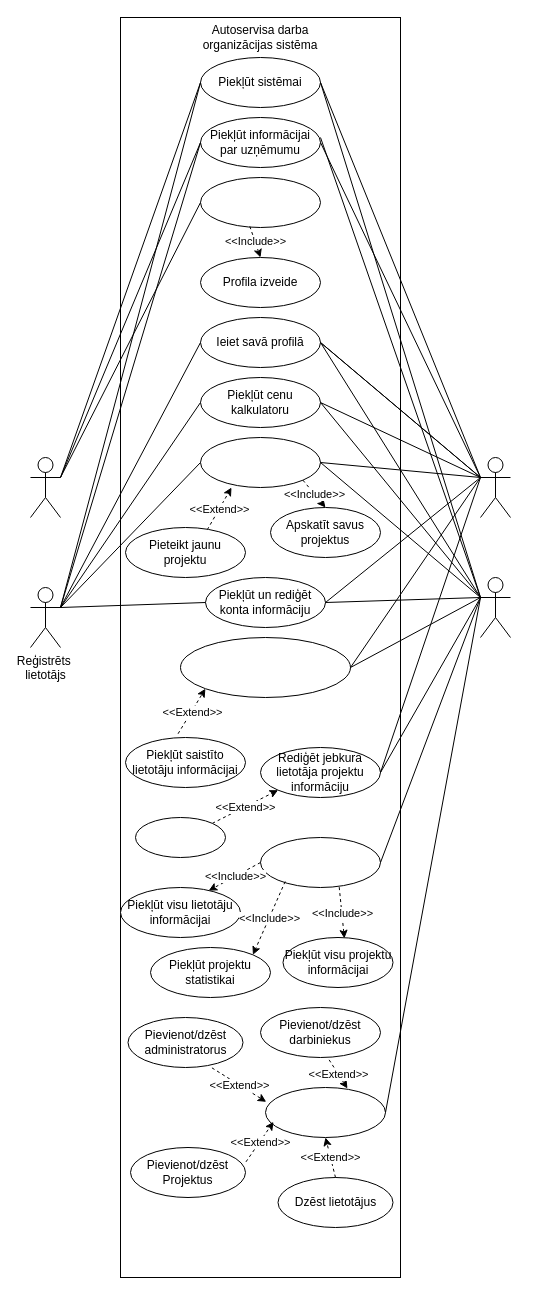
Some shapes in this 551 by 1295 pixel diagram are drawn without their labels. The shapes that lost their labels are listed below. From the top down, each one's box as (x1, y1, x2, y2) in pixels, then its label:
(200, 176, 320, 228): Reģistrēties sistēmā
(200, 436, 320, 488): Piekļūt projektu kalendāram
(30, 456, 60, 518): Viesis
(480, 456, 510, 518): Darbinieks
(480, 576, 510, 638): Administrators
(180, 636, 350, 698): Piekļūt jebkura lietotāja aktīvo projektu informācijai
(134, 816, 226, 858): Pabeigšanas datuma maiņa
(260, 836, 380, 888): Piekļūt visai sistēmas informācijai
(264, 1086, 386, 1138): Rediģēt informāciju
